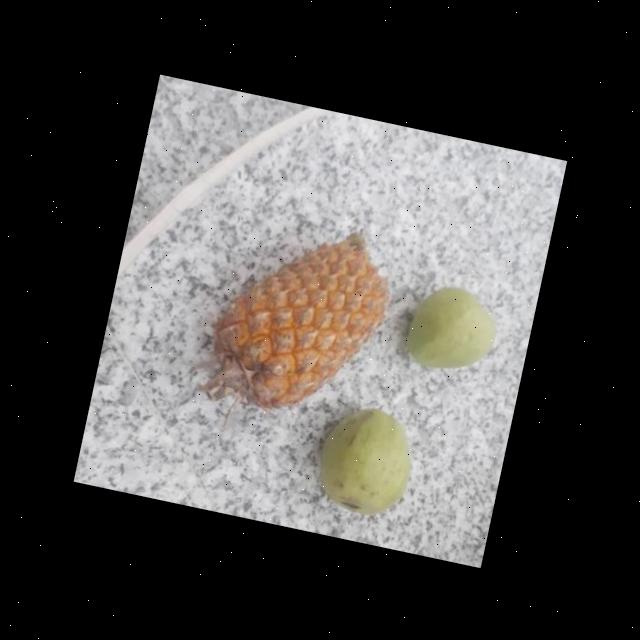guava: (312, 394, 420, 520), (400, 275, 502, 380)
pineapple: (196, 202, 403, 435)
